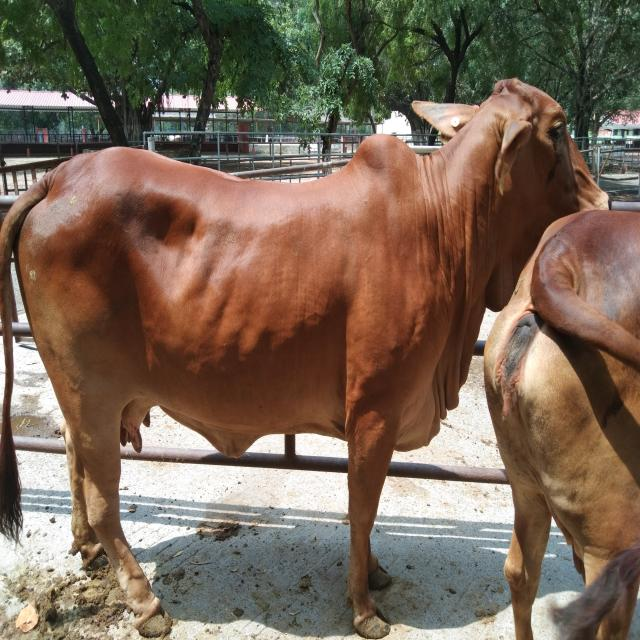1: (343, 129, 416, 169)
Hoof: (353, 610, 390, 638), (368, 564, 392, 590)
